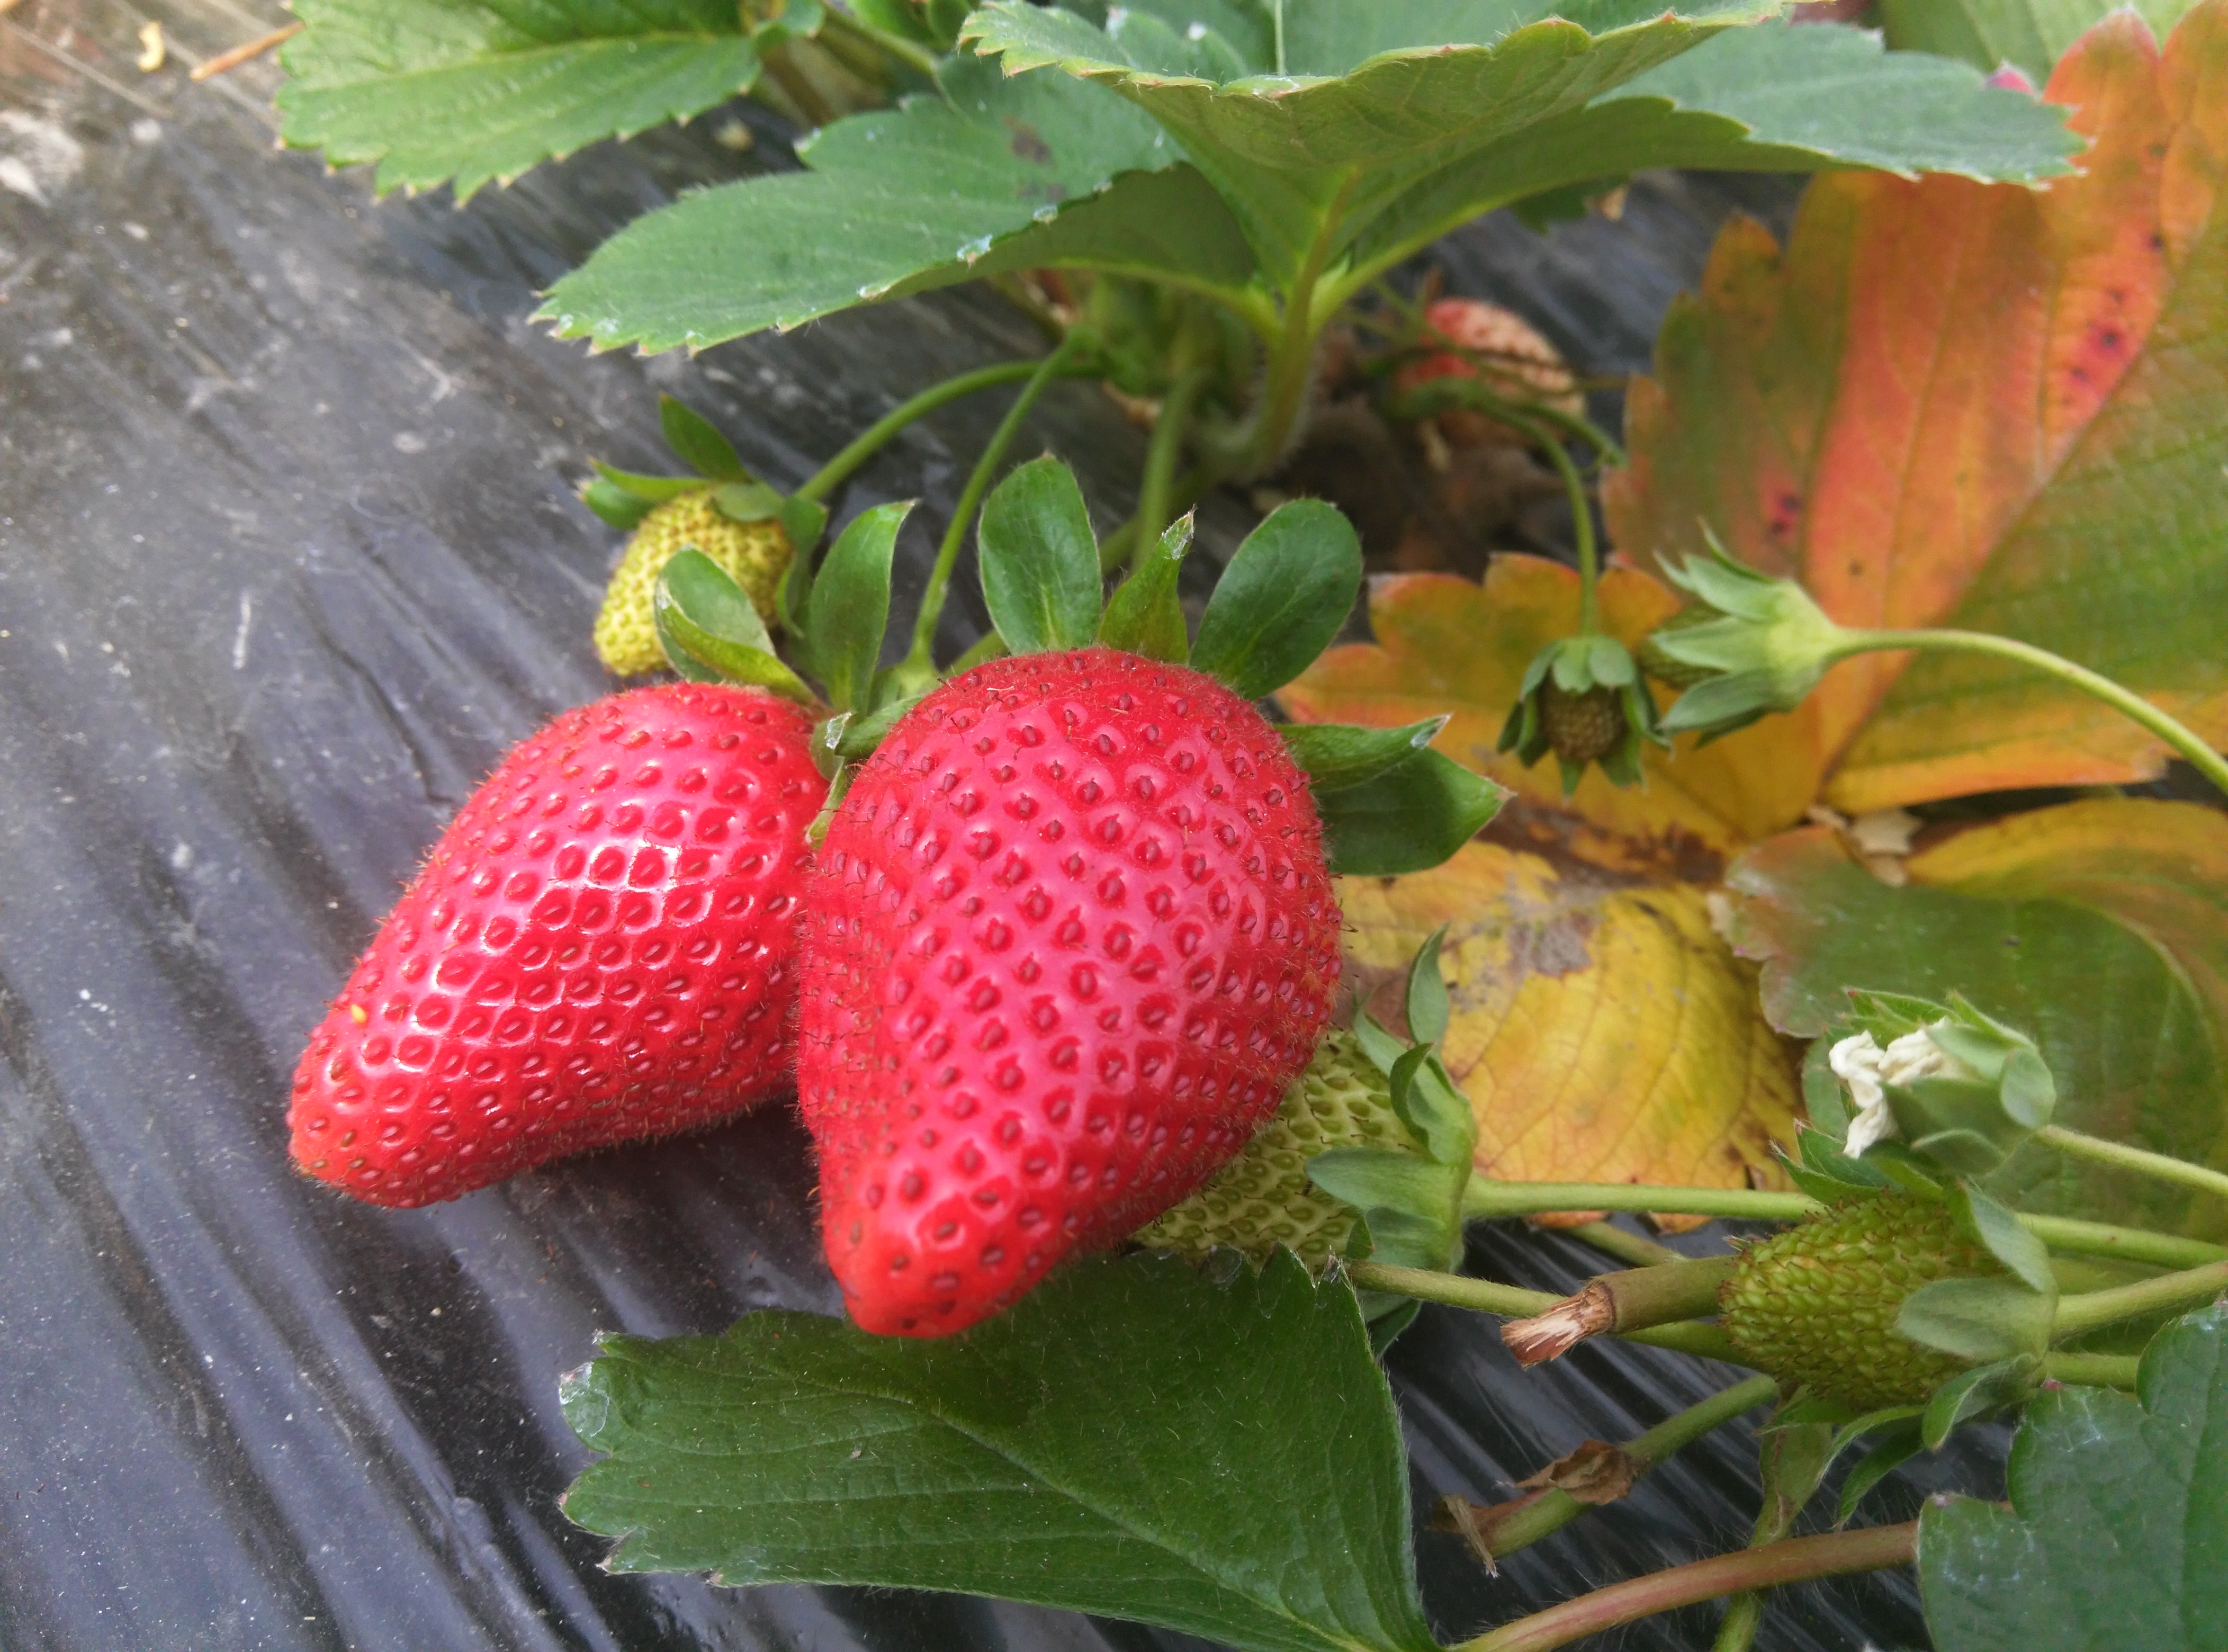StrawberryCone: (790, 619, 1357, 1345), (271, 646, 822, 1208)
StrawberryIrremovable: (1130, 1032, 1437, 1274), (1714, 1199, 2039, 1409), (573, 474, 803, 684), (1645, 557, 1827, 737), (1525, 632, 1642, 777)
StrawberryRemovable: (795, 625, 1353, 1334), (264, 639, 829, 1209)
